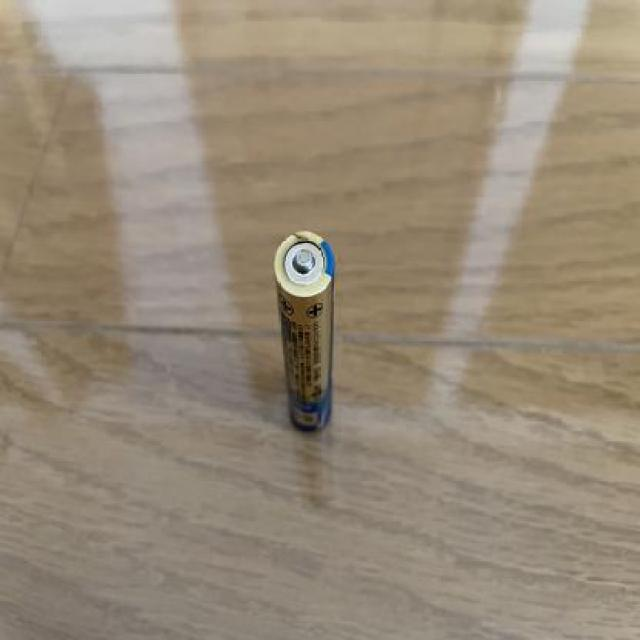hazardous waste: (274, 230, 337, 436)
